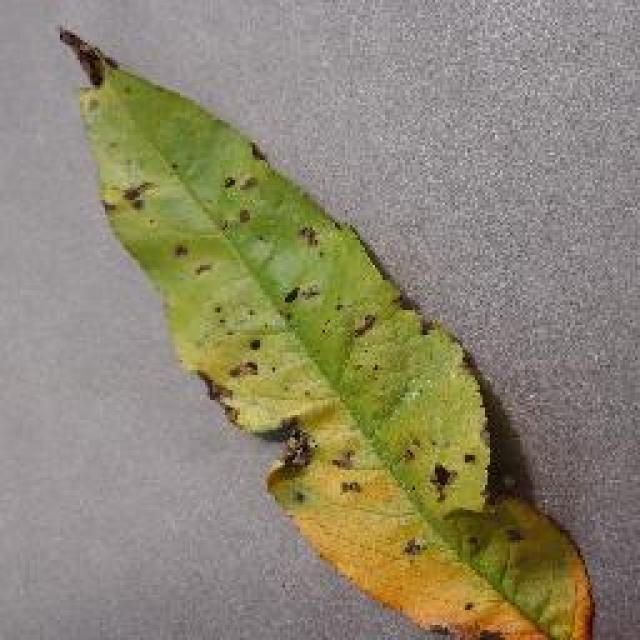Pea_Bacterial_spot: (212, 331, 382, 520), (121, 138, 315, 292), (402, 430, 546, 585)
